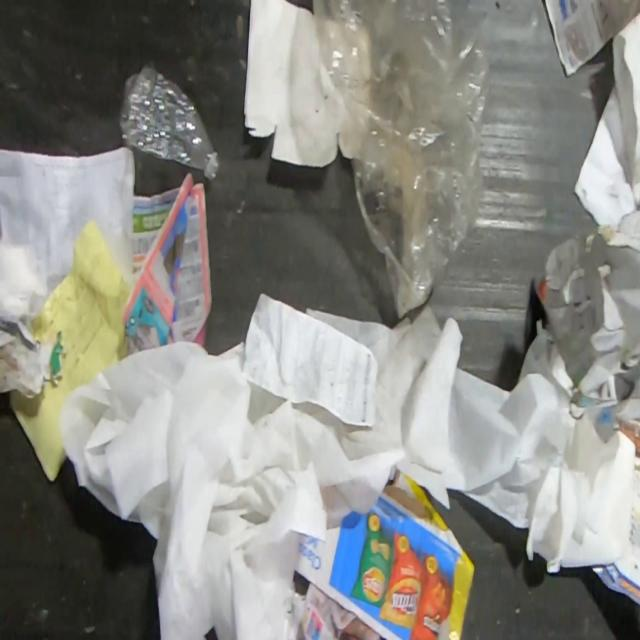cardboard: (294, 468, 476, 640)
rigid_plastic: (116, 62, 223, 185)
soft_plastic: (311, 0, 495, 321)
